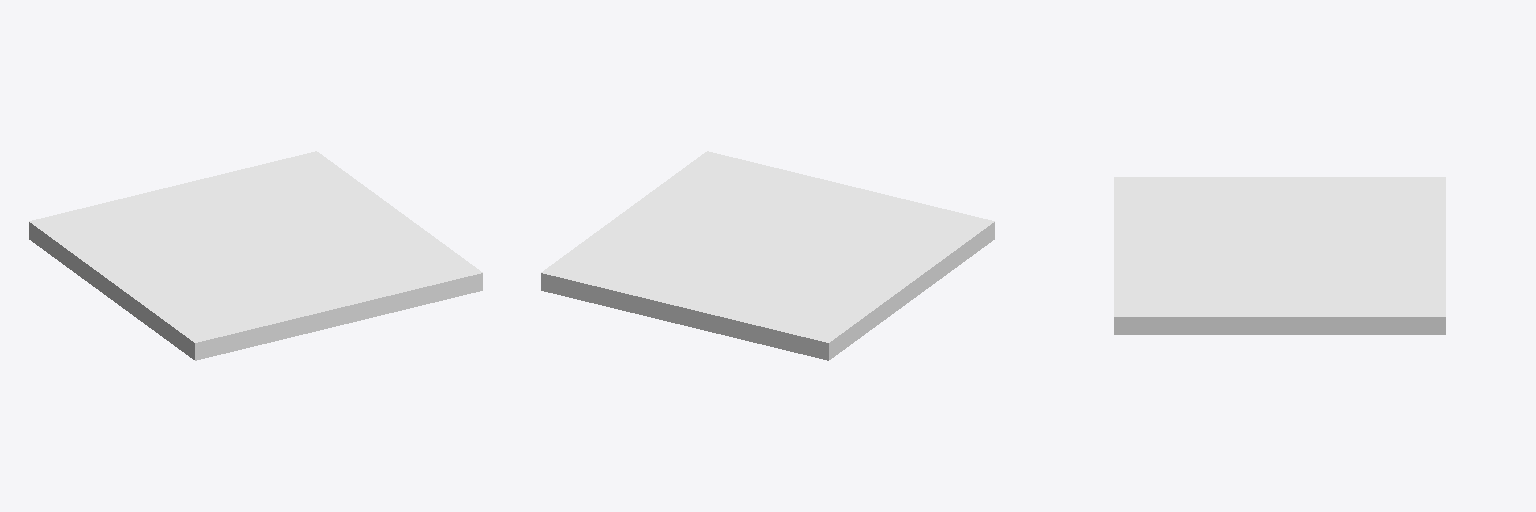
The model's file is twooppositesides.obj.
3 renders of one model, left to right at view 1: azimuth 30°, elevation 25°; view 2: azimuth 150°, elevation 25°; view 3: azimuth 270°, elevation 25°, orthographic.
Visible parts, largest first — view 1: twooppositesides; view 2: twooppositesides; view 3: twooppositesides.
Boxes of the visible parts, x1,y1,x2,y2 form: twooppositesides: [29, 151, 482, 360]; twooppositesides: [541, 151, 994, 360]; twooppositesides: [1114, 177, 1445, 334].
Size of the model in its own units: 17 by 1 by 17.